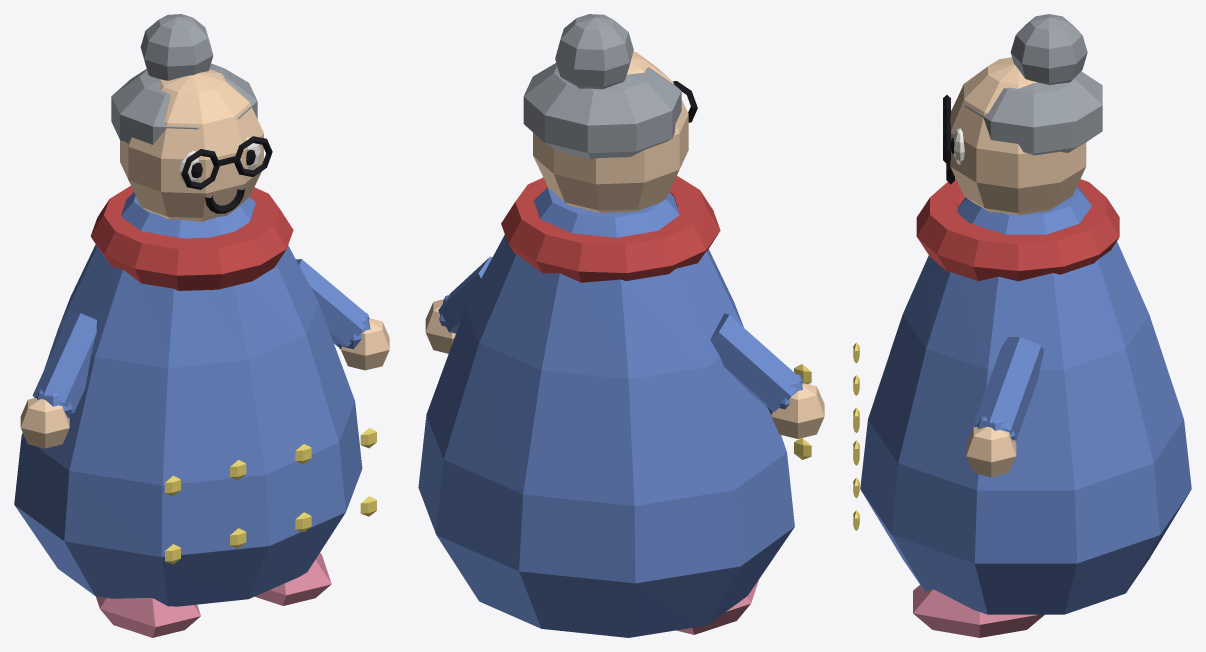
Rendered from npc_abuela.glb.
3 renders of one model, left to right at view 1: azimuth 30°, elevation 25°; view 2: azimuth 150°, elevation 25°; view 3: azimuth 270°, elevation 25°, orthographic. The views are drawn at different scales.
Parts seen in each view (by area): view 1: body_flower_dress, head_skin_crema, body_shawl, head_hair_gray, arms_flower_dress, legs_slippers_pink, arms_skin_crema, face_black; view 2: body_flower_dress, head_hair_gray, body_shawl, head_skin_crema, arms_flower_dress, arms_skin_crema, legs_slippers_pink; view 3: body_flower_dress, head_hair_gray, body_shawl, head_skin_crema, arms_flower_dress, legs_slippers_pink, arms_skin_crema, face_black.
Part boxes in pixels (left/top/right/bottom): body_flower_dress: left=14, top=192, right=362, bottom=606; head_skin_crema: left=120, top=69, right=263, bottom=221; body_shawl: left=90, top=186, right=293, bottom=290; head_hair_gray: left=111, top=14, right=257, bottom=144; arms_flower_dress: left=32, top=259, right=370, bottom=418; legs_slippers_pink: left=95, top=553, right=331, bottom=637; arms_skin_crema: left=20, top=318, right=389, bottom=448; face_black: left=181, top=136, right=272, bottom=213; body_flower_dress: left=418, top=187, right=794, bottom=637; head_hair_gray: left=523, top=14, right=681, bottom=159; body_shawl: left=501, top=176, right=720, bottom=282; head_skin_crema: left=533, top=51, right=688, bottom=212; arms_flower_dress: left=438, top=256, right=803, bottom=413; arms_skin_crema: left=425, top=299, right=824, bottom=438; legs_slippers_pink: left=676, top=580, right=758, bottom=634; body_flower_dress: left=860, top=186, right=1191, bottom=614; head_hair_gray: left=964, top=14, right=1102, bottom=155; body_shawl: left=916, top=179, right=1119, bottom=281; head_skin_crema: left=950, top=57, right=1086, bottom=215; arms_flower_dress: left=974, top=337, right=1044, bottom=440; legs_slippers_pink: left=913, top=585, right=1044, bottom=637; arms_skin_crema: left=966, top=426, right=1016, bottom=477; face_black: left=943, top=95, right=955, bottom=184.
Bounding box in the file's own units: 1.13 × 1.66 × 0.8782.
